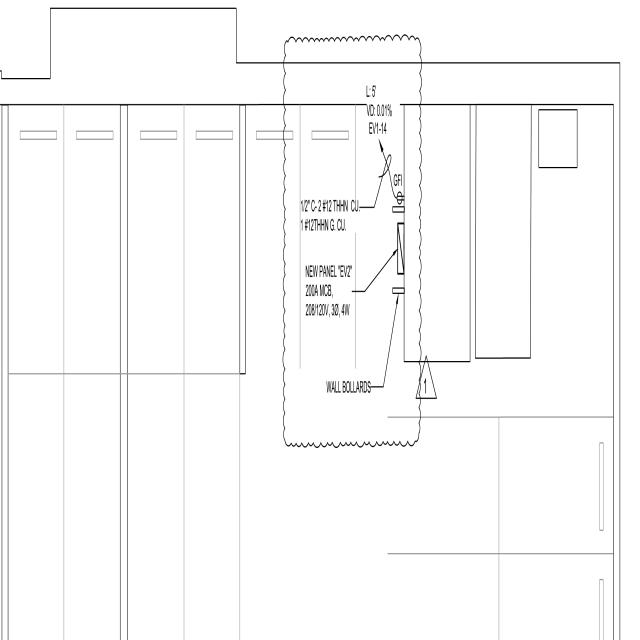gfi: (396, 188, 403, 205)
panel: (395, 218, 408, 288)
